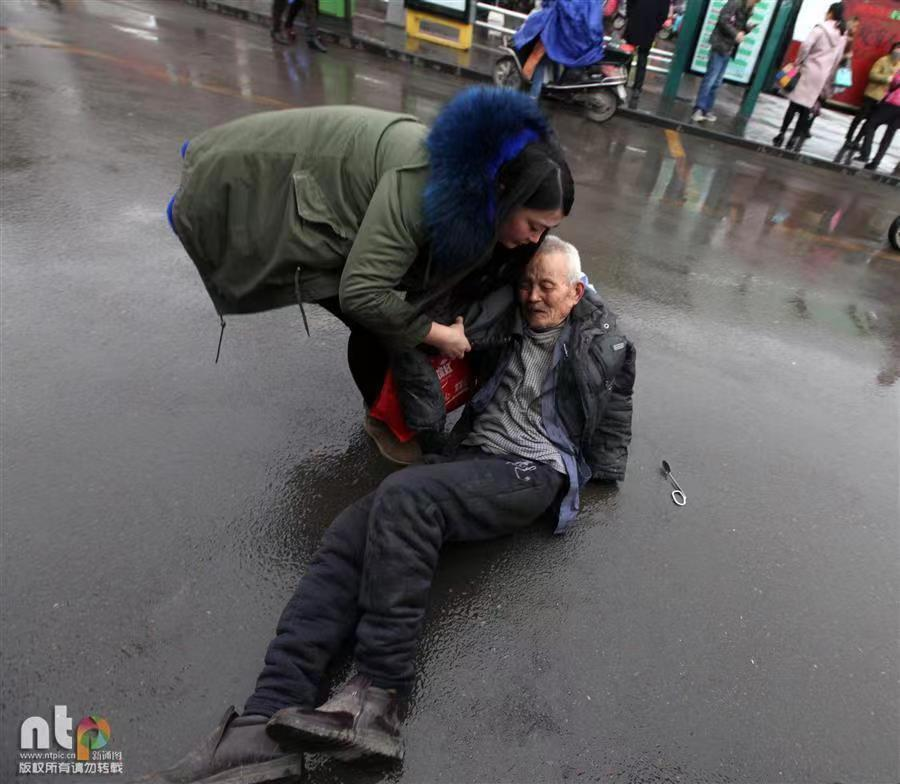bending: (159, 82, 553, 469)
down: (236, 242, 638, 782)
